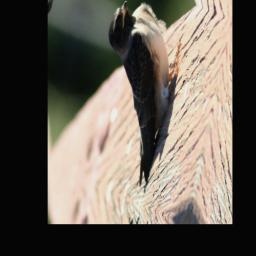Swallow: (79, 0, 191, 194)
